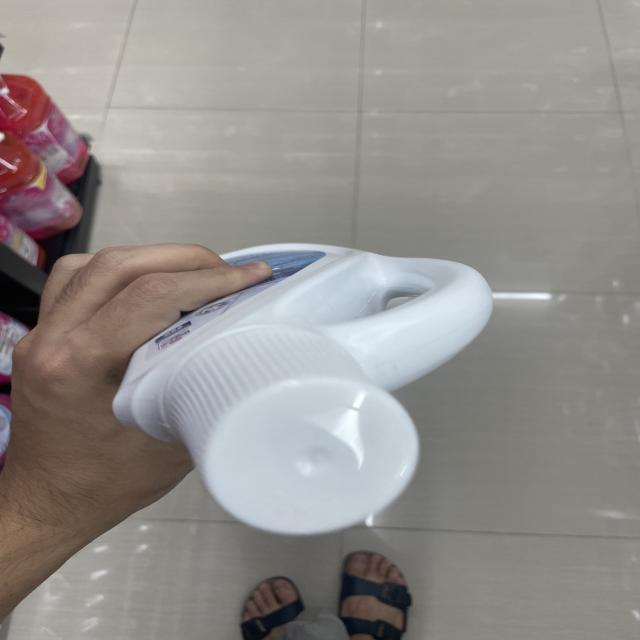HDPE Plastic: (116, 230, 511, 537)
